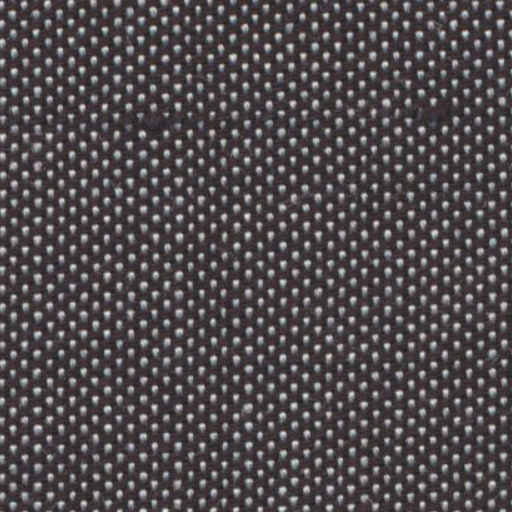TuoSha: (26, 91, 481, 146)
